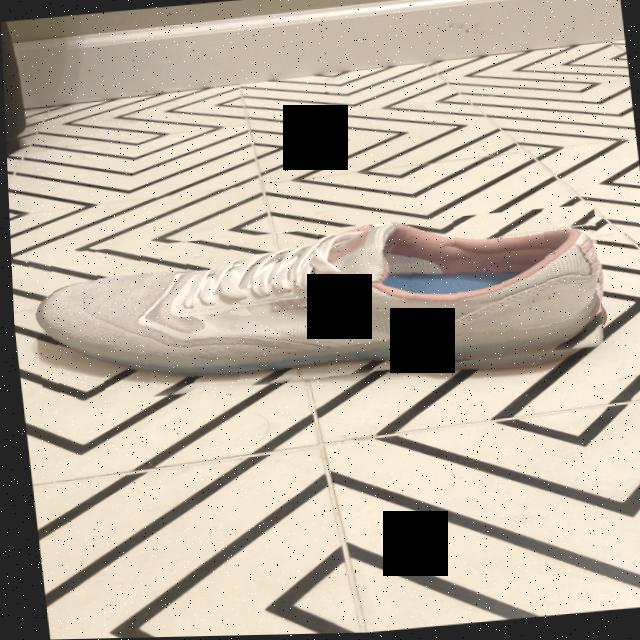shoe: (24, 207, 609, 410)
